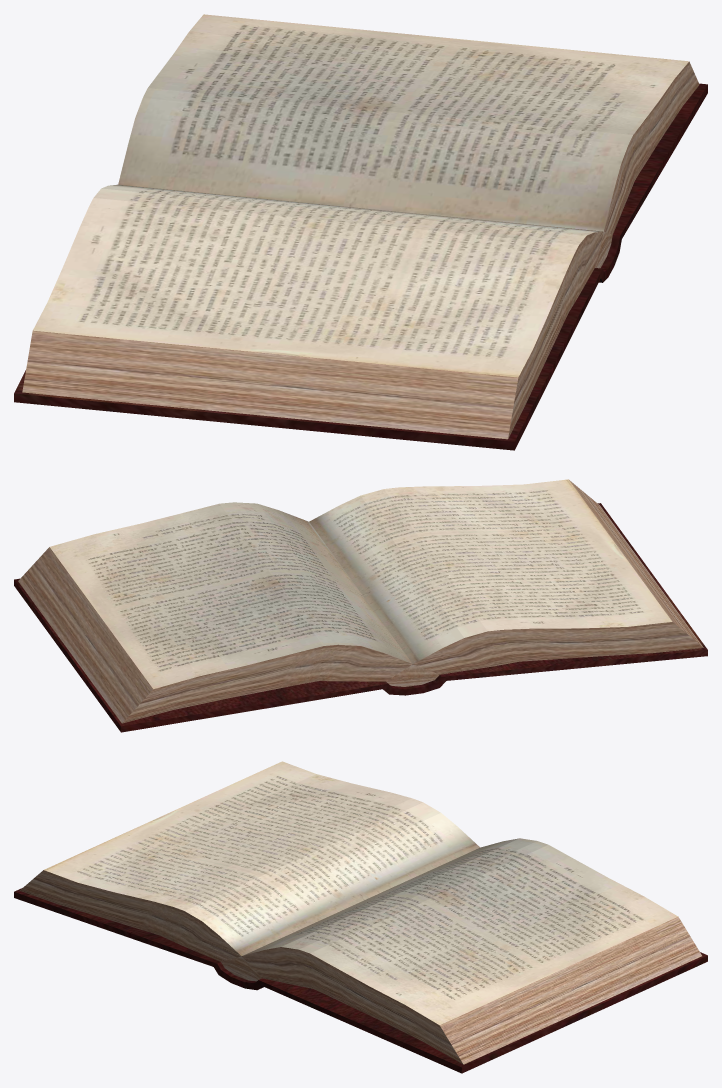
The model's file is BSN_Education_Ani_booktest.gltf.
The picture shows the model from 3 angles, top to bottom: view 1: azimuth 30°, elevation 25°; view 2: azimuth 150°, elevation 25°; view 3: azimuth 270°, elevation 25°; orthographic projection. The views are drawn at different scales.
Parts seen in each view (by area): view 1: openbook1; view 2: openbook1; view 3: openbook1.
Part boxes in pixels (x1,y1,x2,y2): openbook1: [14, 14, 707, 450]; openbook1: [14, 479, 707, 732]; openbook1: [14, 761, 707, 1073].
Bounding box in the file's own units: 4 × 0.3725 × 4.08.
Materials: 1 (1 with a texture image).
